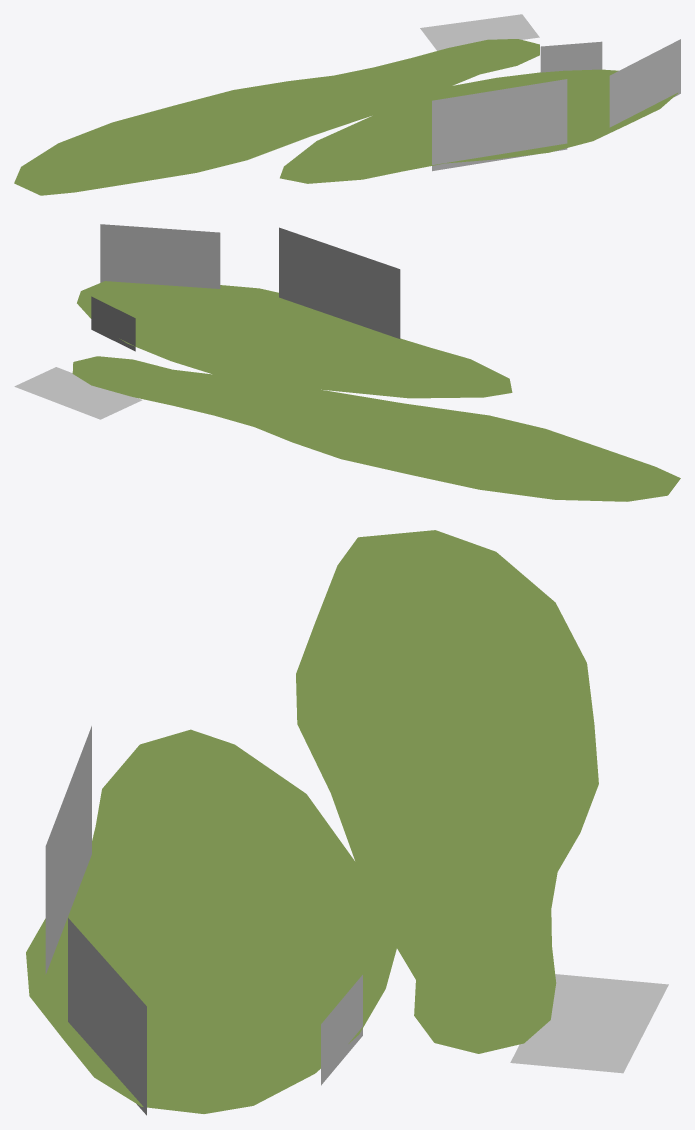
Rendered from Mesh_Battle_Forest_Ground_12.FBX.
3 renders of one model, top to bottom at view 1: azimuth 30°, elevation 25°; view 2: azimuth 150°, elevation 25°; view 3: azimuth 270°, elevation 25°, orthographic. The views are drawn at different scales.
Visible parts, largest first — view 1: Mesh_Battle_Forest_Ground_12, Mesh_Battle_Forest_Grass_10; view 2: Mesh_Battle_Forest_Ground_12, Mesh_Battle_Forest_Grass_10; view 3: Mesh_Battle_Forest_Ground_12, Mesh_Battle_Forest_Grass_10.
Part boxes in pixels (left/top/right/bottom): Mesh_Battle_Forest_Ground_12: left=14, top=39, right=677, bottom=195; Mesh_Battle_Forest_Grass_10: left=420, top=14, right=680, bottom=171; Mesh_Battle_Forest_Ground_12: left=72, top=281, right=680, bottom=501; Mesh_Battle_Forest_Grass_10: left=14, top=224, right=400, bottom=419; Mesh_Battle_Forest_Ground_12: left=26, top=530, right=598, bottom=1113; Mesh_Battle_Forest_Grass_10: left=45, top=726, right=668, bottom=1115.
Size of the model in its own units: 119 by 13.38 by 55.29.
